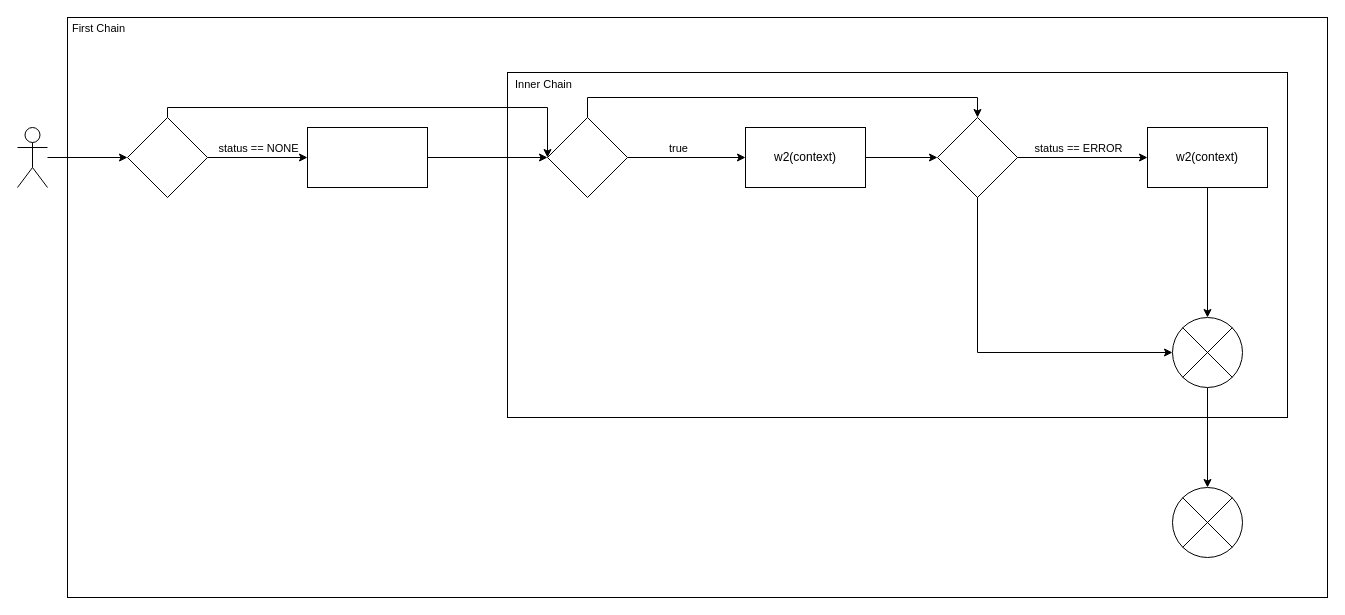
The diagram is 1345 pixels wide and 615 high, and some of its shapes have lost their labels. The shapes that lost their labels are listed below. From the top down, each one's centre as x and y in pixels, then its label:
At (x=32, y=157): "Actor".
At (x=367, y=157): "w1(context)".
